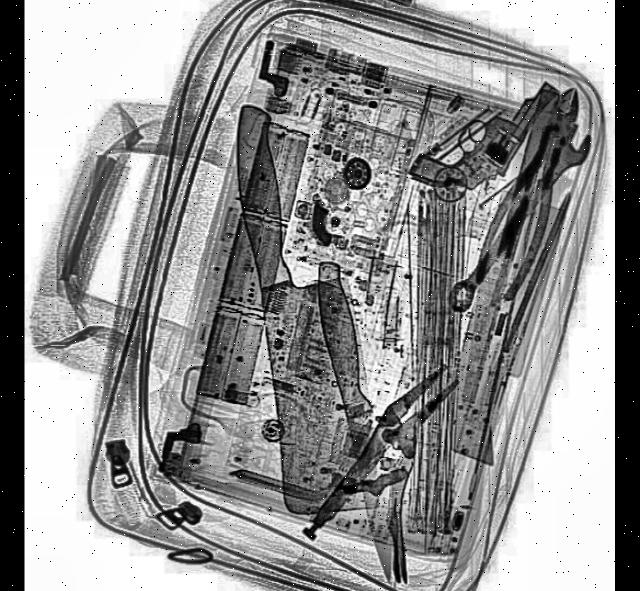Gun: (404, 34, 563, 230)
Knife: (224, 88, 383, 527), (308, 257, 403, 582)
Pliers: (467, 70, 600, 305)
Wrench: (440, 108, 600, 322)
